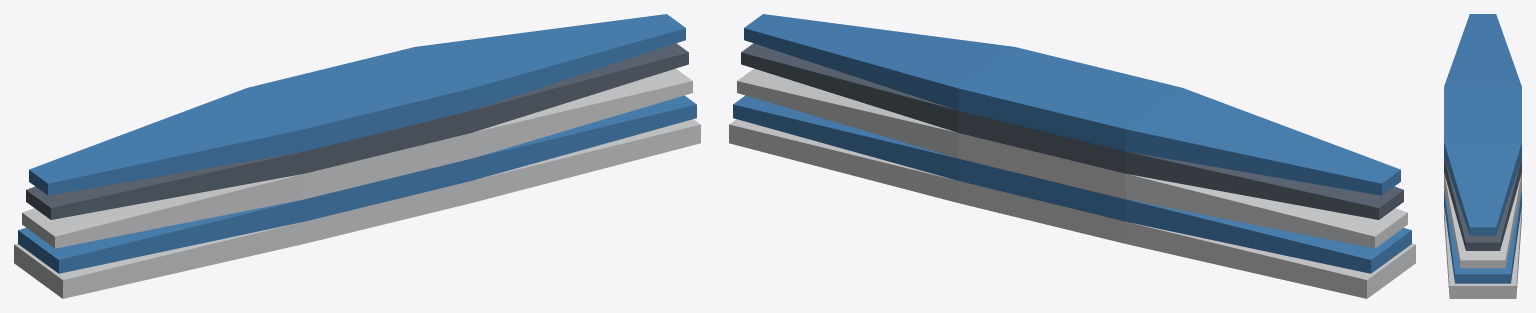
3 renders of one model, left to right at view 1: azimuth 30°, elevation 25°; view 2: azimuth 150°, elevation 25°; view 3: azimuth 270°, elevation 25°, orthographic. The views are drawn at different scales.
Visible parts, largest first — view 1: part10, part5, part0, part12, part14, part13, part11, part2, part4, part3, part1, part7 (+3 smaller); view 2: part10, part5, part0, part12, part14, part13, part11, part2, part4, part3, part1, part7 (+3 smaller); view 3: part0, part5, part10, part2, part4, part3, part1.
Boxes of the visible parts, left/top/right/bottom form: part10: left=29, top=88, right=303, bottom=195; part5: left=247, top=47, right=471, bottom=151; part0: left=415, top=14, right=685, bottom=110; part12: left=22, top=174, right=303, bottom=248; part14: left=14, top=222, right=303, bottom=298; part13: left=18, top=199, right=303, bottom=273; part11: left=26, top=151, right=303, bottom=219; part2: left=471, top=68, right=692, bottom=158; part4: left=471, top=119, right=700, bottom=202; part3: left=471, top=95, right=696, bottom=180; part1: left=471, top=43, right=688, bottom=132; part7: left=304, top=133, right=471, bottom=199; part10: left=1126, top=88, right=1400, bottom=195; part5: left=958, top=47, right=1182, bottom=151; part0: left=744, top=14, right=1014, bottom=110; part12: left=1126, top=174, right=1407, bottom=248; part14: left=1126, top=222, right=1415, bottom=298; part13: left=1126, top=199, right=1411, bottom=273; part11: left=1126, top=151, right=1403, bottom=219; part2: left=737, top=68, right=958, bottom=158; part4: left=729, top=119, right=958, bottom=202; part3: left=733, top=95, right=958, bottom=180; part1: left=741, top=43, right=958, bottom=132; part7: left=958, top=133, right=1125, bottom=199; part0: left=1444, top=142, right=1521, bottom=235; part5: left=1444, top=86, right=1521, bottom=142; part10: left=1444, top=14, right=1521, bottom=86; part2: left=1444, top=173, right=1521, bottom=268; part4: left=1444, top=206, right=1521, bottom=298; part3: left=1444, top=191, right=1521, bottom=283; part1: left=1444, top=158, right=1521, bottom=250.
Size of the model in its own units: 7.8 by 1.34 by 1.2.
